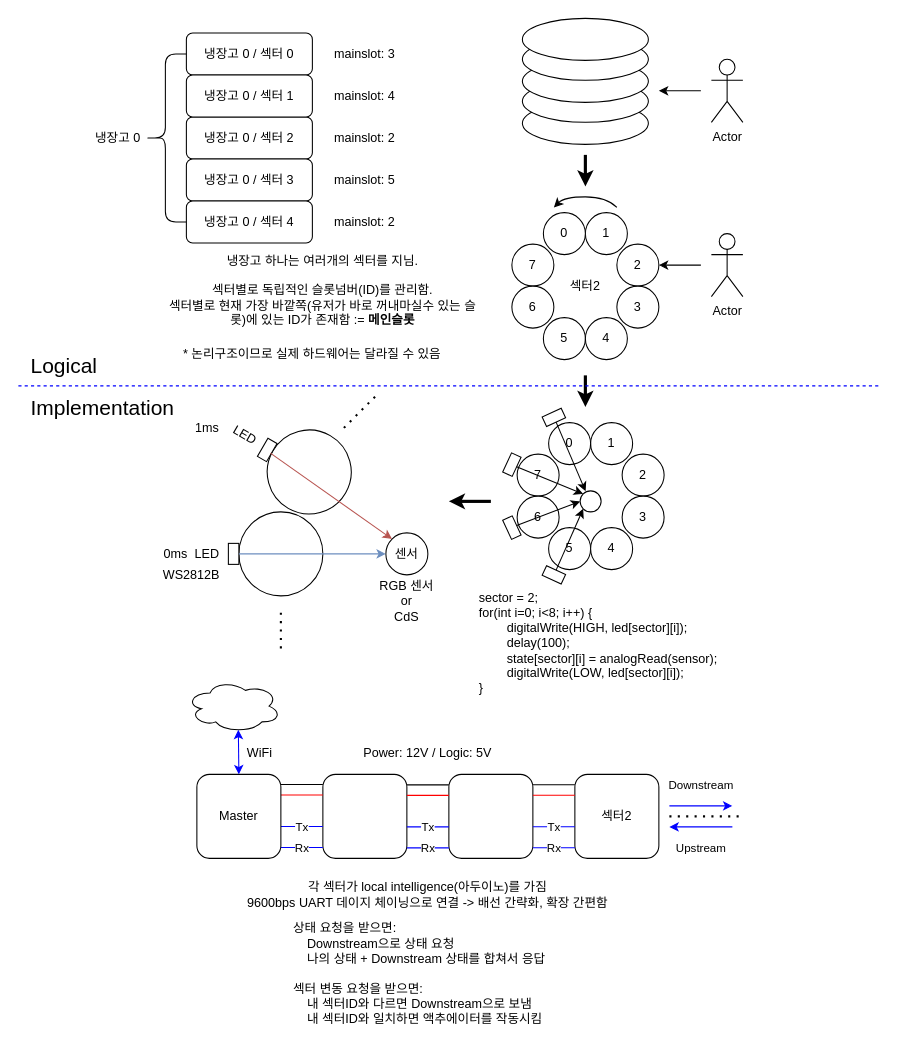
Image size: 899x1045. Some labels were removed from this diagram. Each missing label, with the centre of its shape:
Internet: (233,705)
섹터0: (364,815)
섹터1: (490,815)
없음: (280,553)
있음: (309,471)
